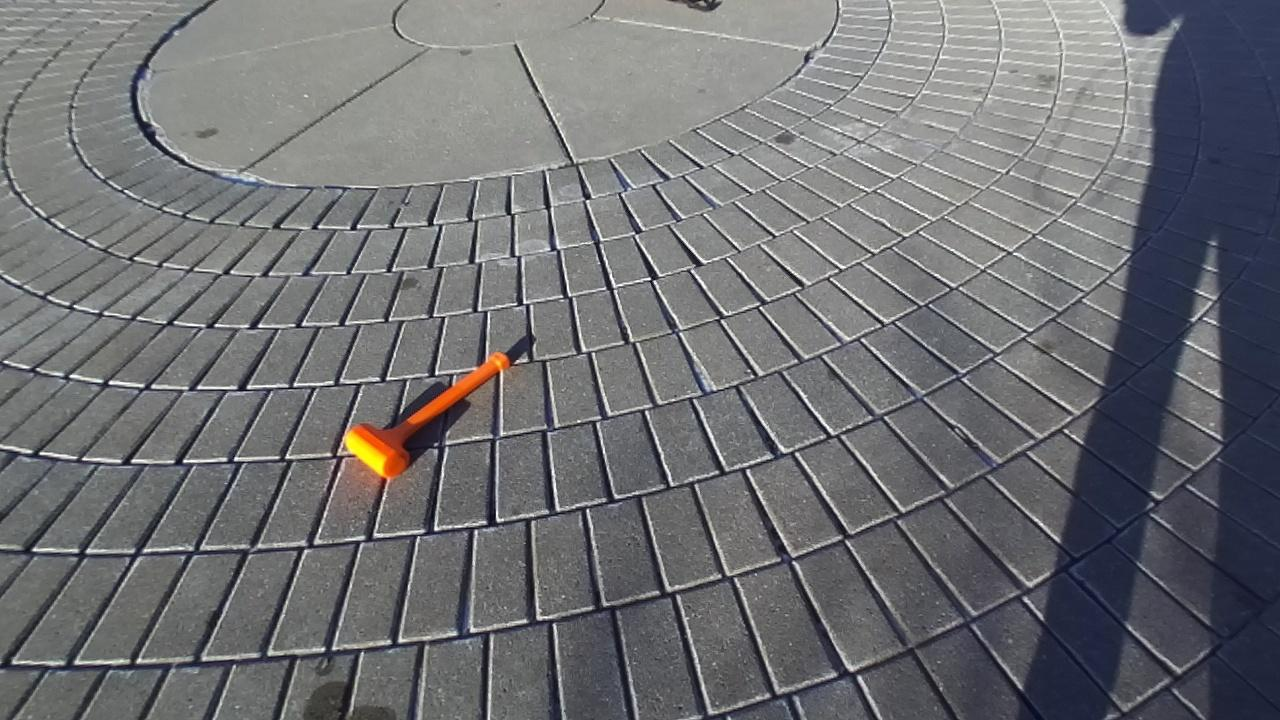mallet: (344, 352, 509, 477)
